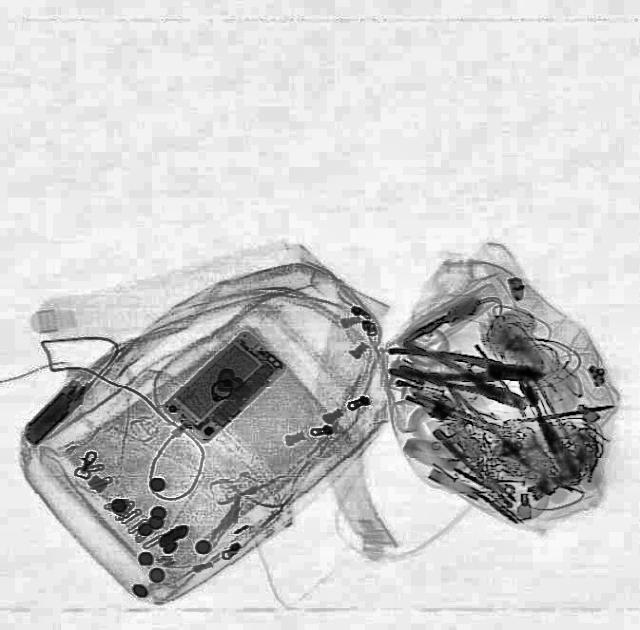Pliers: (392, 340, 536, 420), (385, 346, 541, 388)
